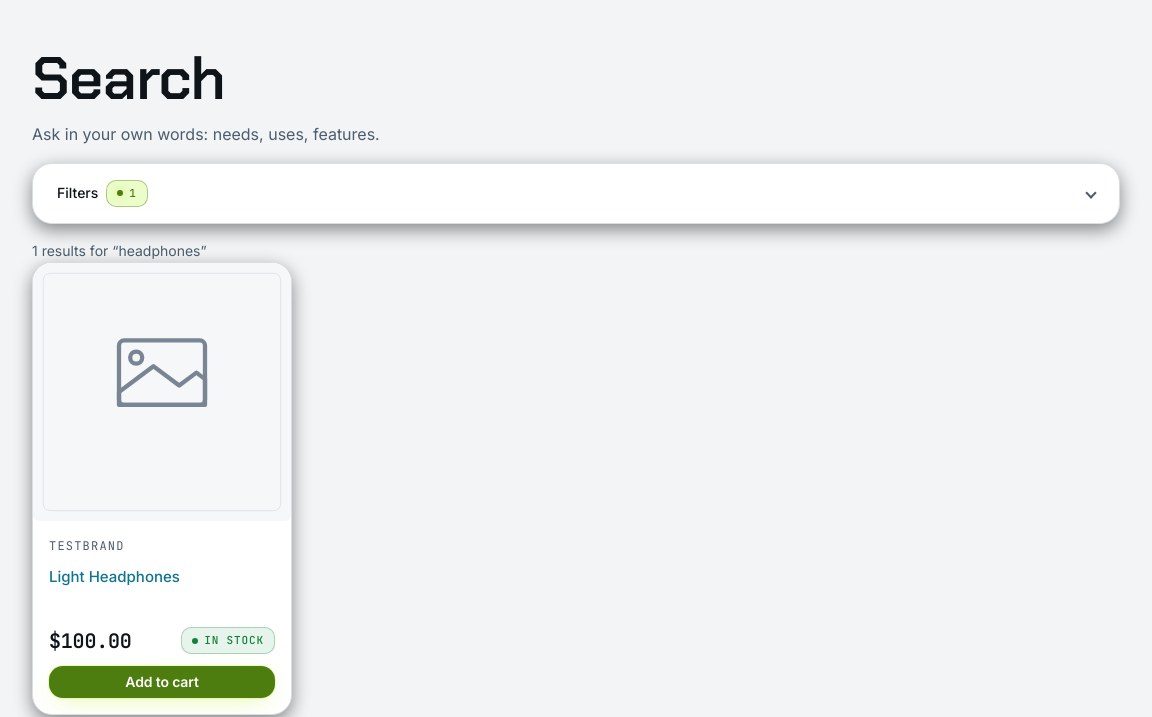
Test case: SearchView › rejects an invalid max price without navigating
Step 1. Click the button "Filters 1" → (78, 193), box [33,164,1119,223]
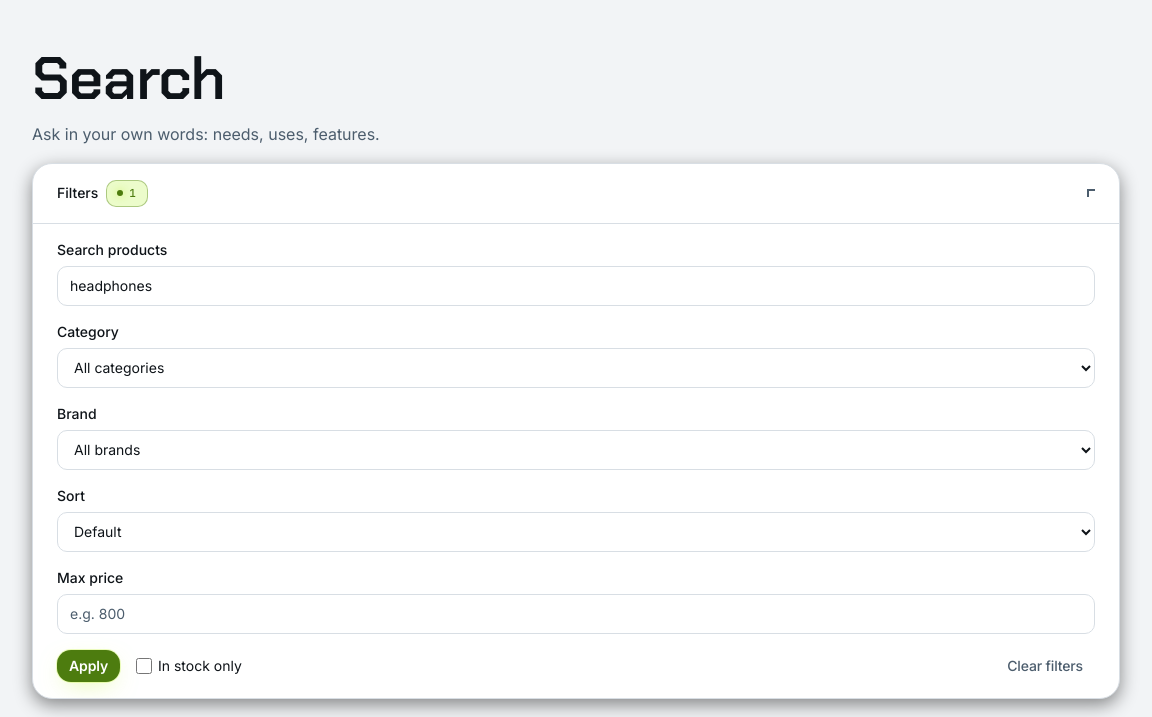
Step 2. Type "-5" into the field labelled "Max price" → (576, 614), box [57,594,1095,634]
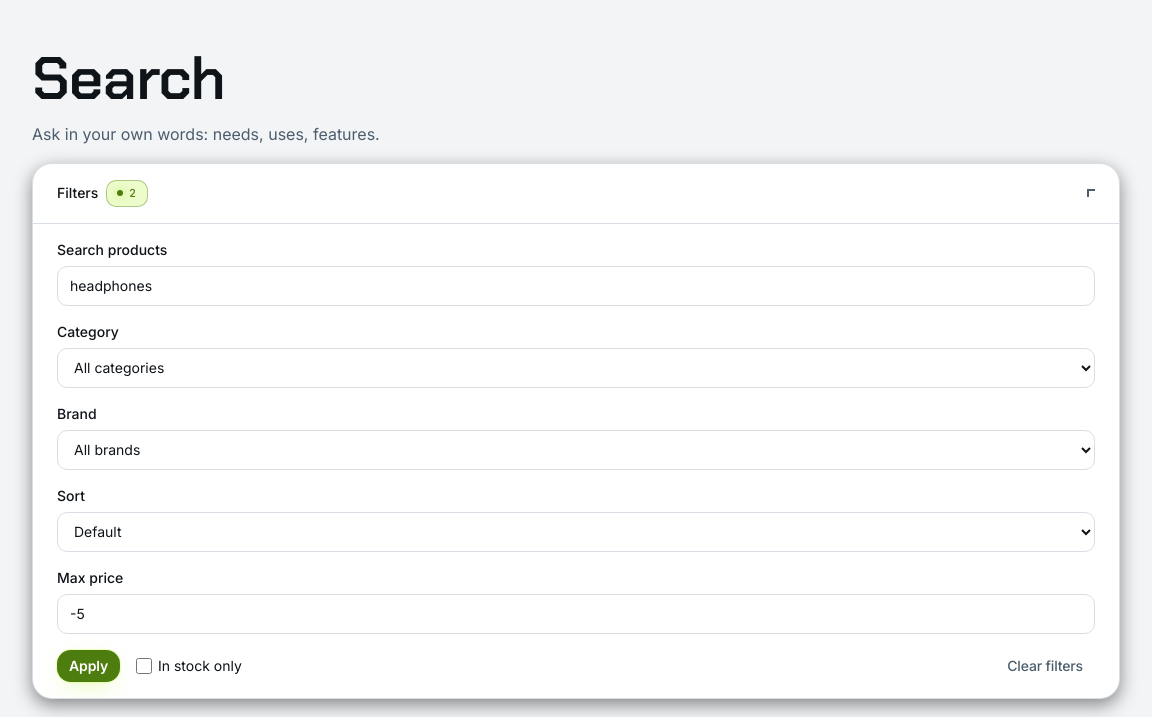
Step 3. Click the button "Apply" → (88, 666), box [57,650,120,682]
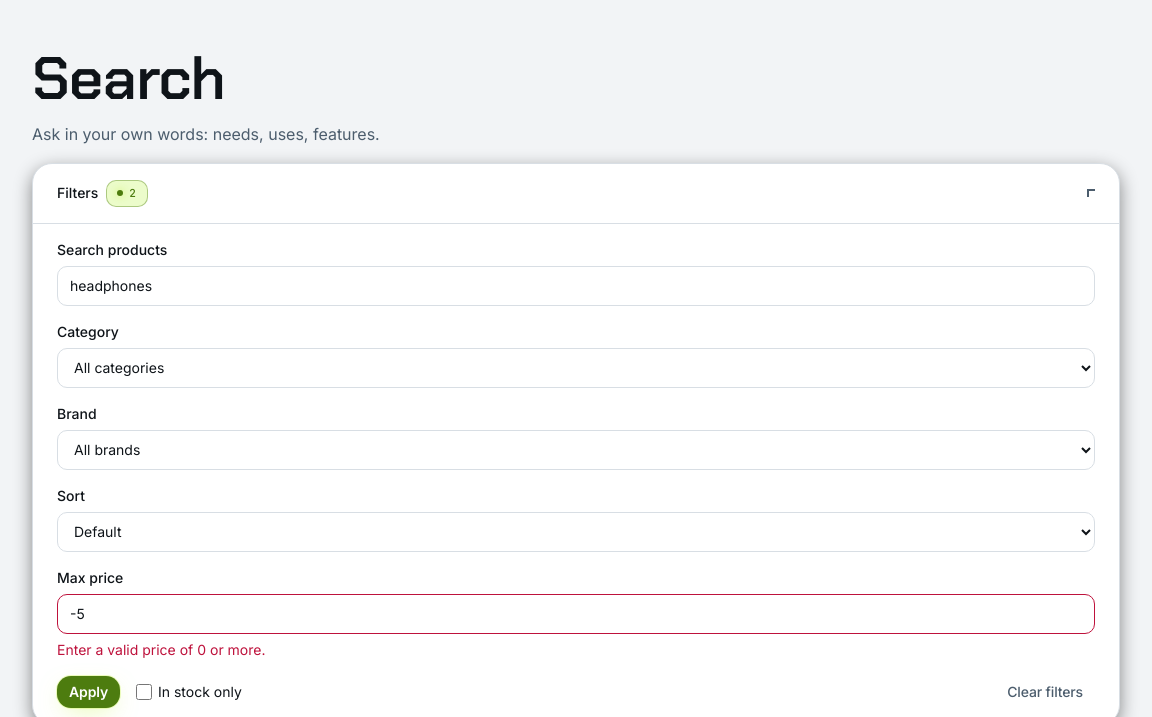
Result: the text "Enter a valid price of 0 or more." is shown at [57,641,266,658]
